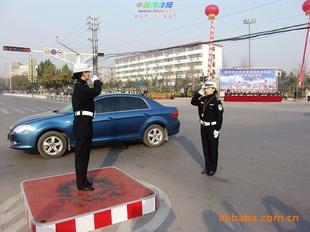up: (65, 61, 99, 192), (192, 81, 228, 179)
